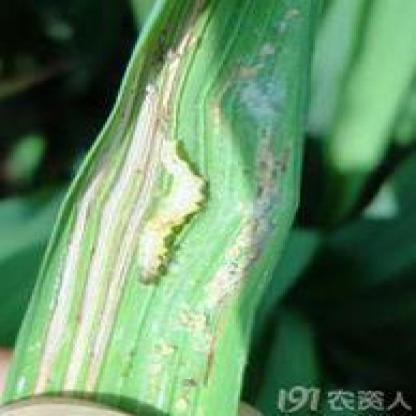leaf-folder: (96, 125, 243, 293)
